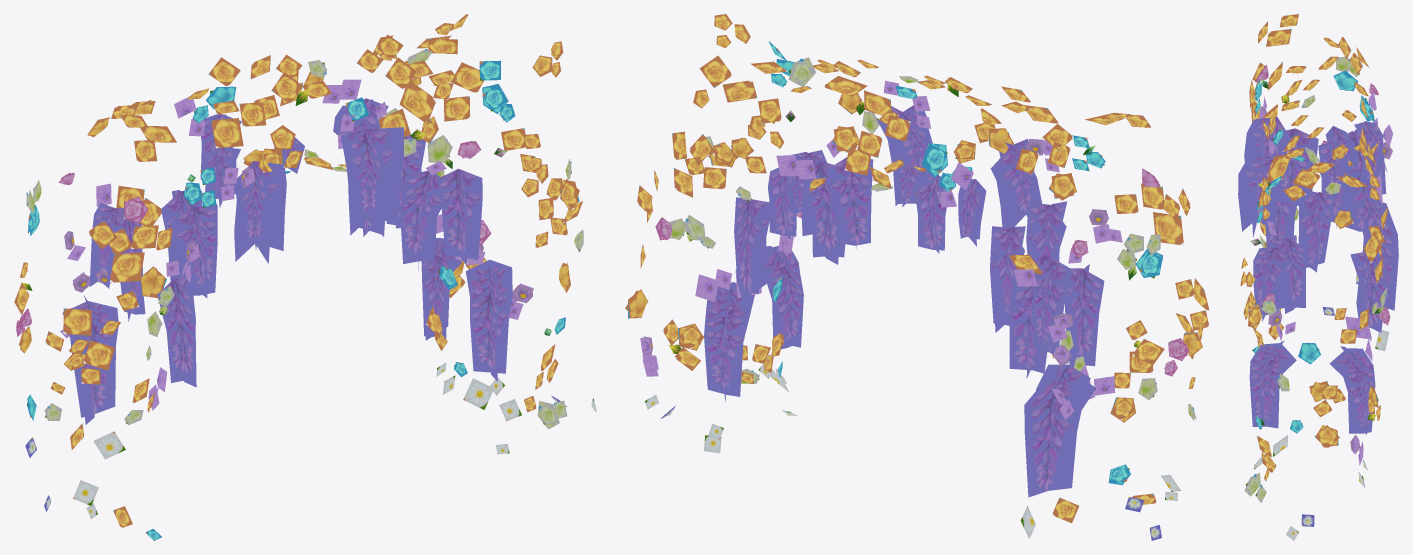
Rendered from Homeworld_Exterior_Common_Flower_Decoration_Door_01_B_Lod0.fbx.
3 renders of one model, left to right at view 1: azimuth 30°, elevation 25°; view 2: azimuth 150°, elevation 25°; view 3: azimuth 270°, elevation 25°, orthographic. The views are drawn at different scales.
Parts seen in each view (by area): view 1: Homeworld_Exterior_Common_Flower_Decoration_Door_01_B_Lod0; view 2: Homeworld_Exterior_Common_Flower_Decoration_Door_01_B_Lod0; view 3: Homeworld_Exterior_Common_Flower_Decoration_Door_01_B_Lod0.
Boxes of the visible parts, <box> form: Homeworld_Exterior_Common_Flower_Decoration_Door_01_B_Lod0: <box>14,14,596,540</box>; Homeworld_Exterior_Common_Flower_Decoration_Door_01_B_Lod0: <box>625,14,1209,540</box>; Homeworld_Exterior_Common_Flower_Decoration_Door_01_B_Lod0: <box>1238,14,1398,540</box>.
Bounding box in the file's own units: 3.94 × 2.83 × 1.19.
